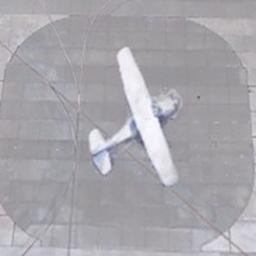Airplane: (87, 45, 183, 187)
